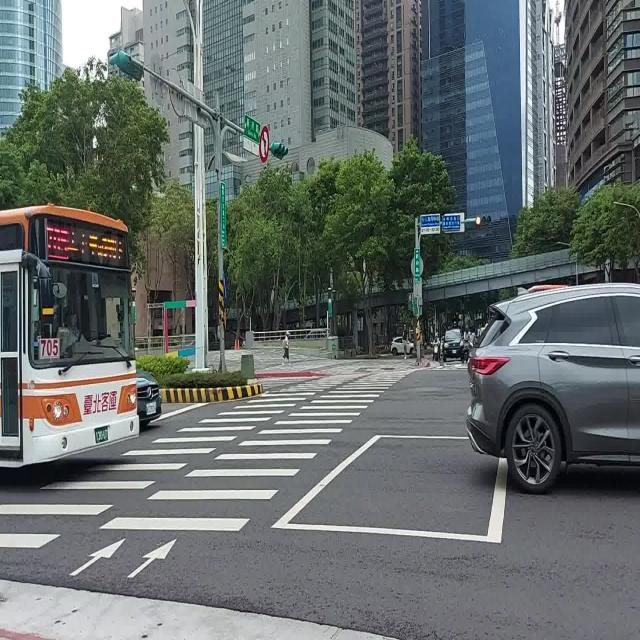bus: (0, 204, 139, 466)
car: (465, 284, 640, 493), (136, 369, 161, 428), (442, 329, 464, 360), (390, 336, 414, 356)
crosswalk: (0, 371, 370, 551), (94, 369, 414, 533)
motocycle: (432, 338, 440, 359)
